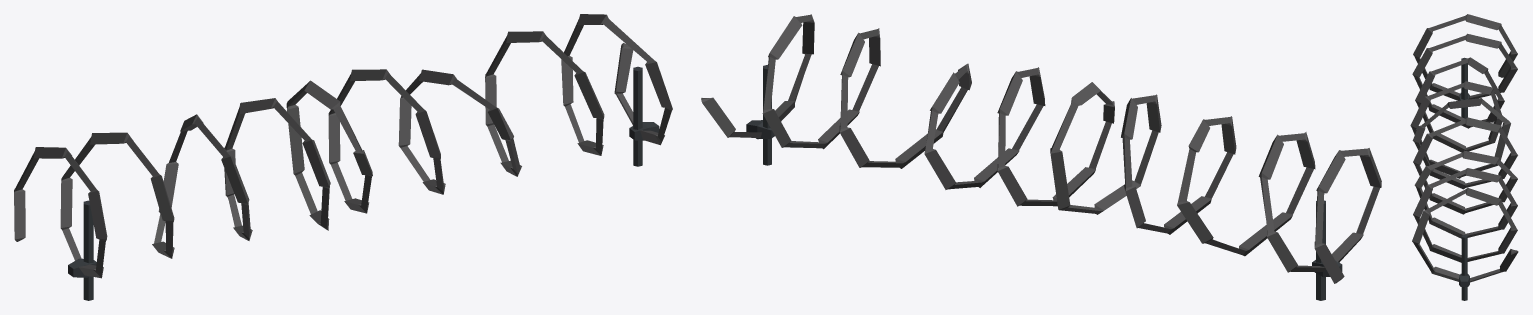
The model's file is SM_Prop_RazorWire_01.glb.
3 views of the same model, side by side, from view 1: azimuth 30°, elevation 25°; view 2: azimuth 150°, elevation 25°; view 3: azimuth 270°, elevation 25° (orthographic). The views are drawn at different scales.
Parts seen in each view (by area): view 1: SM_Prop_RazorWire_01; view 2: SM_Prop_RazorWire_01; view 3: SM_Prop_RazorWire_01.
Part boxes in pixels (x1,y1,x2,y2): SM_Prop_RazorWire_01: (14, 14, 672, 300); SM_Prop_RazorWire_01: (701, 14, 1381, 300); SM_Prop_RazorWire_01: (1410, 14, 1518, 300).
Size of the model in its own units: 4.2 by 0.9914 by 0.9492.
Materials: 1 (1 with a texture image).
